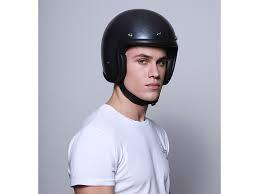helmet: (101, 8, 179, 102)
